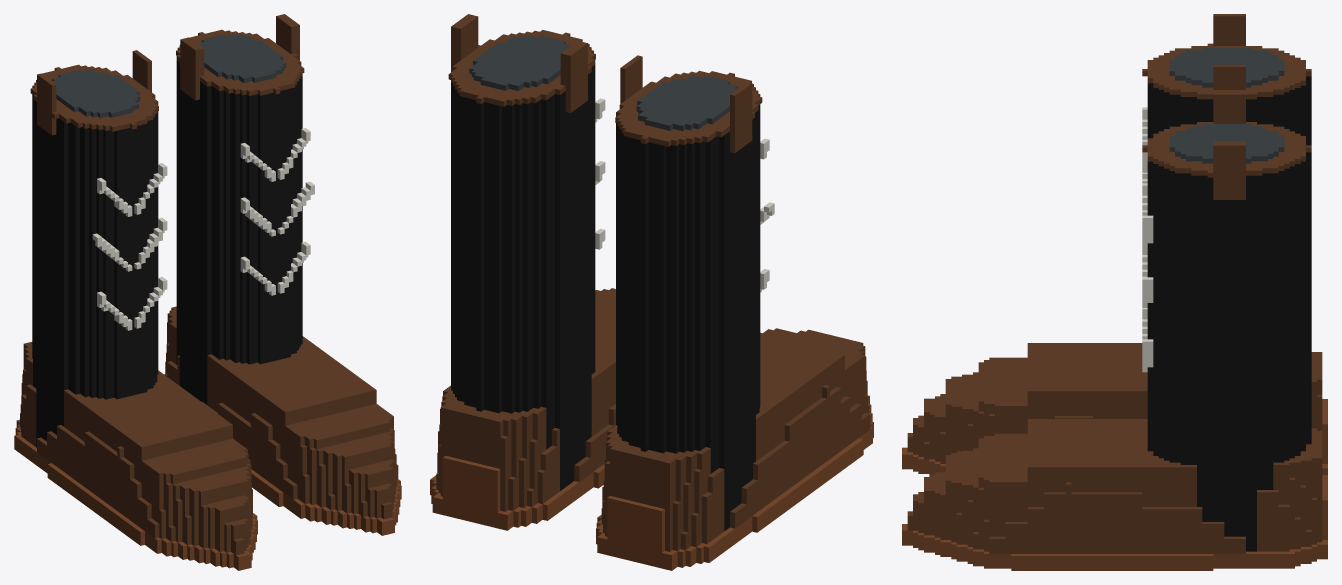
The model's file is boots_western.glb.
3 views of the same model, side by side, from view 1: azimuth 30°, elevation 25°; view 2: azimuth 150°, elevation 25°; view 3: azimuth 270°, elevation 25° (orthographic). The views are drawn at different scales.
Visible parts, largest first — view 1: boots_western:compound; view 2: boots_western:compound; view 3: boots_western:compound.
Part boxes in pixels (bbox=[...]): boots_western:compound: bbox=[14, 14, 401, 570]; boots_western:compound: bbox=[430, 14, 873, 570]; boots_western:compound: bbox=[902, 14, 1327, 570].
Bounding box in the file's own units: 0.232 × 0.344 × 0.312.
